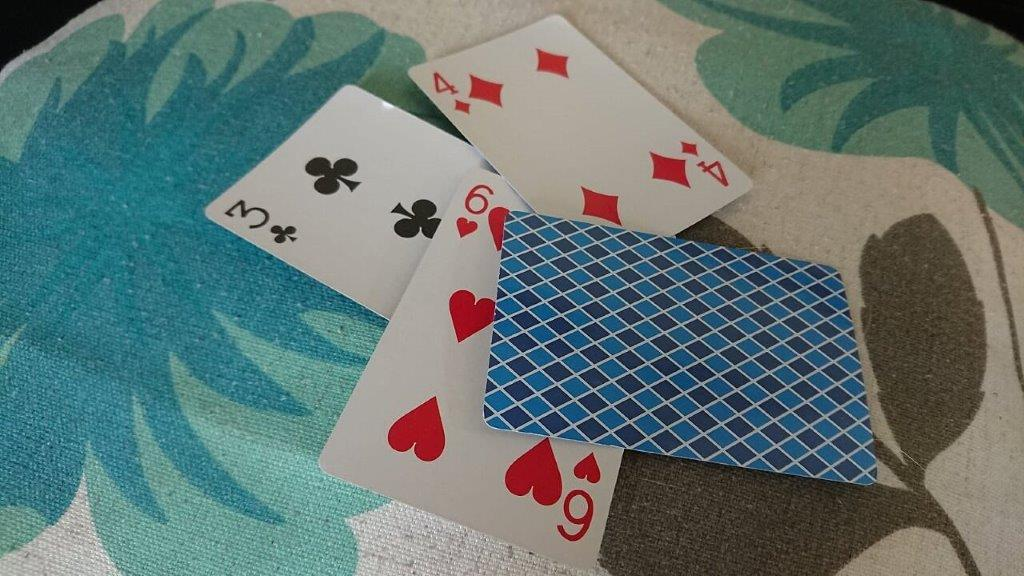4D: (427, 64, 475, 123)
6H: (454, 175, 498, 254)
BACK: (485, 210, 878, 487)
